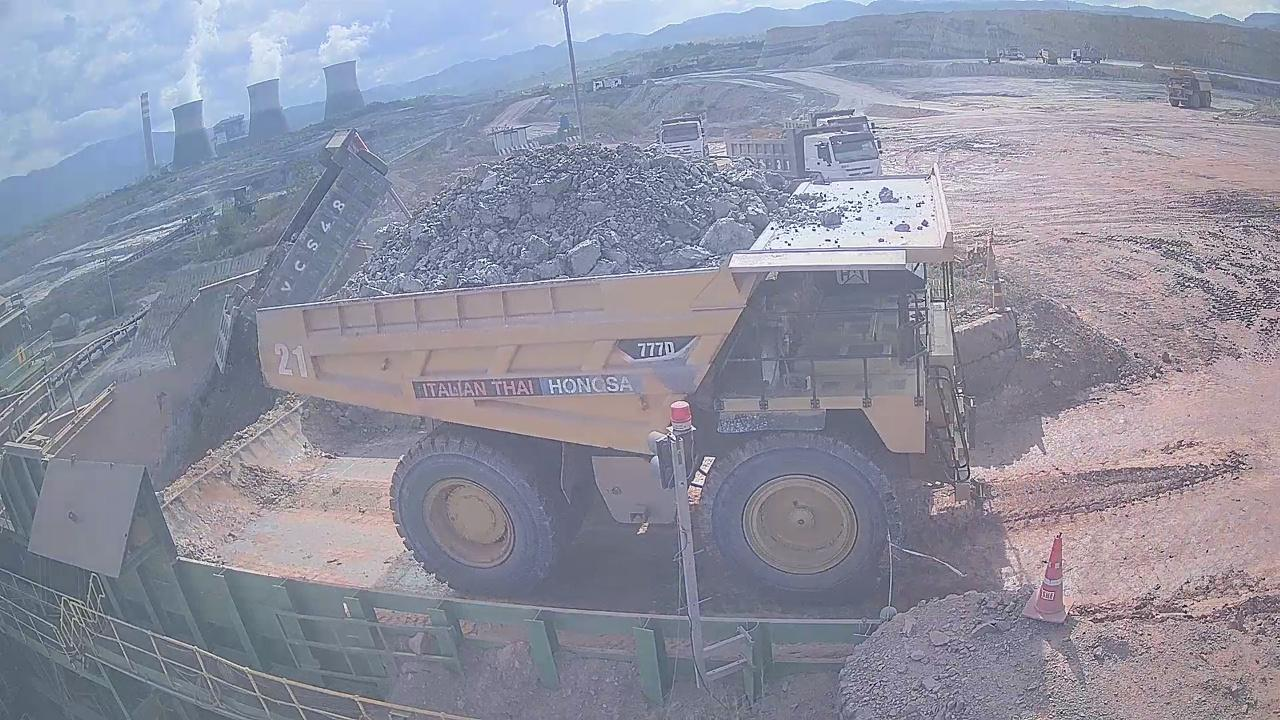company: (409, 376, 654, 401)
full_load: (343, 151, 800, 297)
mining_truck: (252, 140, 982, 605)
tail_number: (269, 341, 311, 380)
truck_size: (614, 334, 700, 361)
